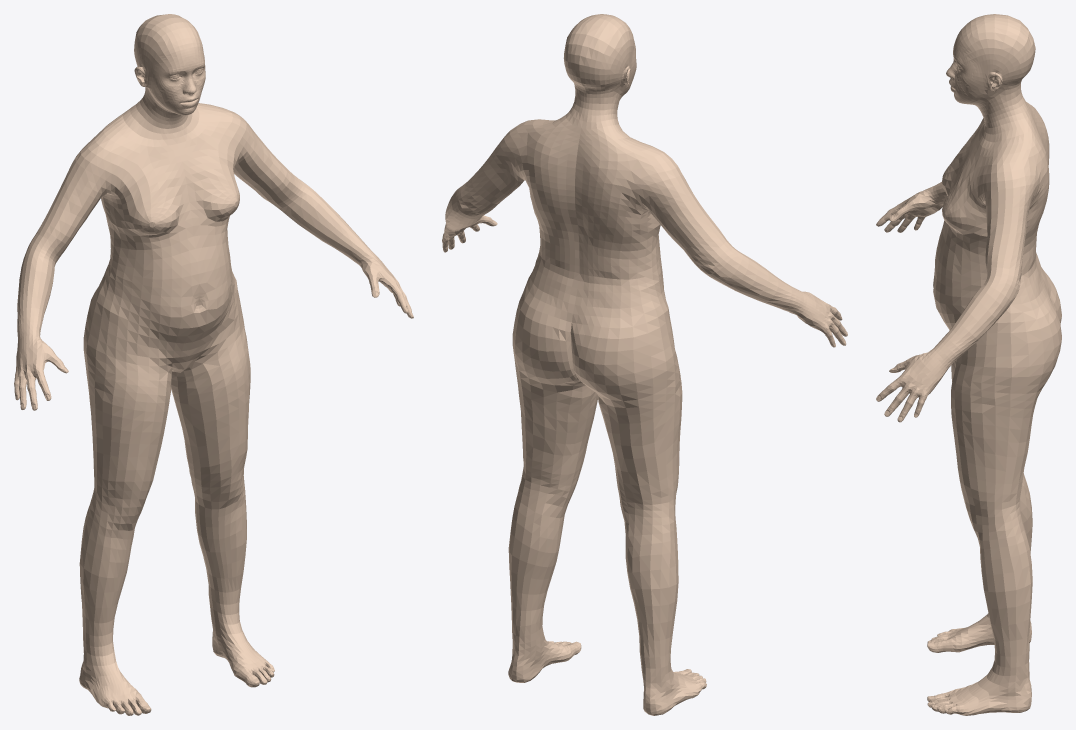
File: female-young-max-toned.glb
3 renders of one model, left to right at view 1: azimuth 30°, elevation 25°; view 2: azimuth 150°, elevation 25°; view 3: azimuth 270°, elevation 25°, orthographic.
Visible parts, largest first — view 1: world; view 2: world; view 3: world.
Part boxes in pixels (x1,y1,x2,y2): world: (14,14,413,715); world: (442,14,847,715); world: (876,14,1061,715).
Bounding box in the file's own units: 1.09 × 1.76 × 0.4474.
